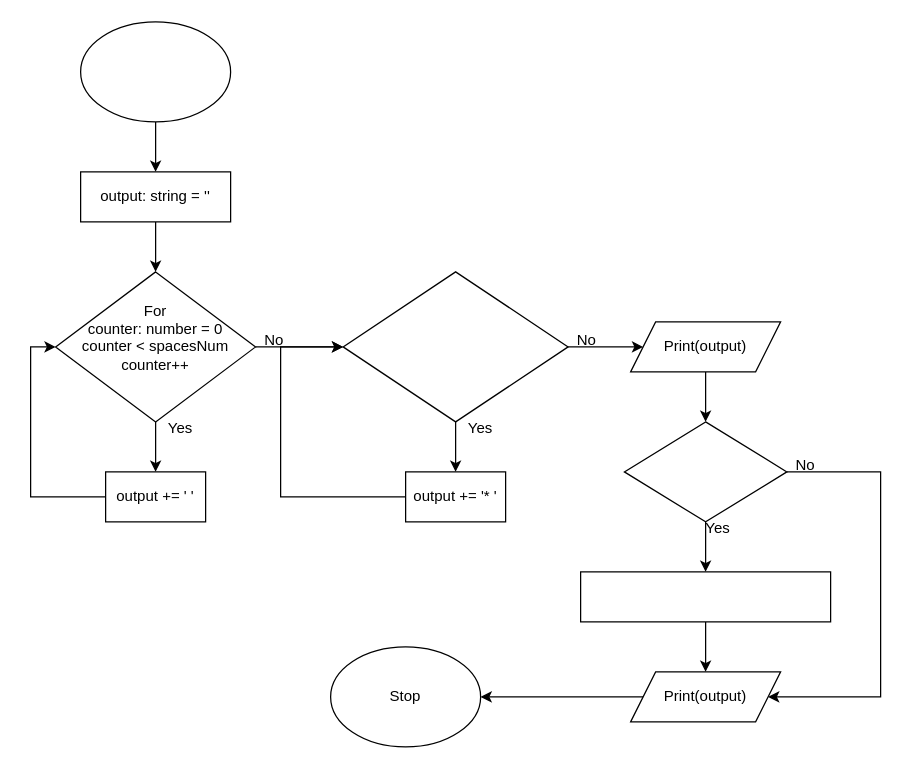
The diagram is 913 pixels wide and 769 high, and some of its shapes have lost their labels. The shapes that lost their labels are listed below. From the top down, each one's centre as x and y in pixels, then its label:
(x=155, y=71): Start
(x=455, y=346): For counter1: number = 0 counter1 < integer counter1++
(x=705, y=471): If integer > 1
(x=705, y=596): asterisk(integer - 1, spacesNum + 1)
